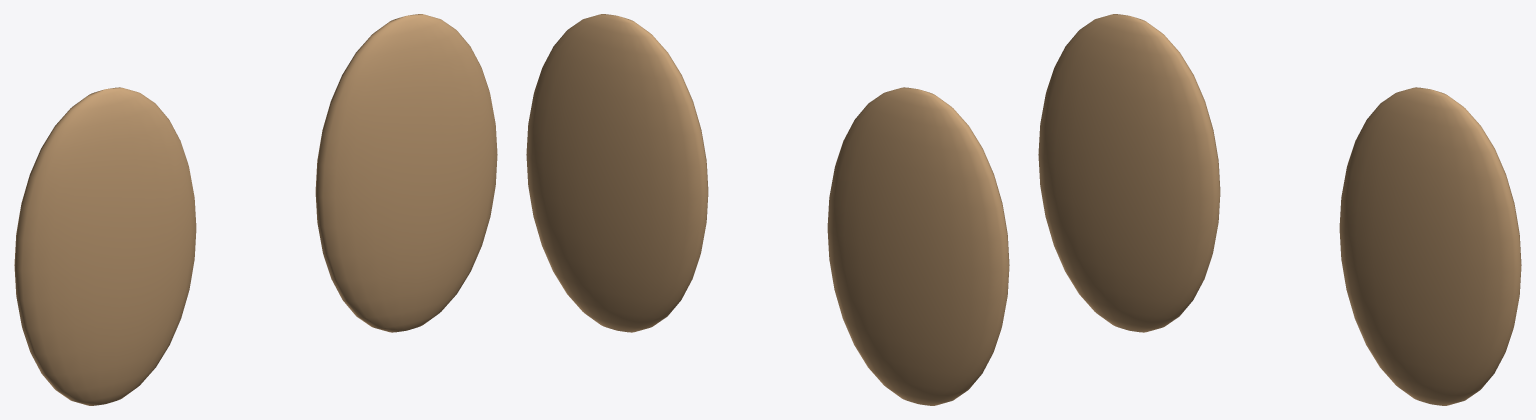
Rendered from conch_rabbit_tracks_Tracks.glb.
3 views of the same model, side by side, from view 1: azimuth 30°, elevation 25°; view 2: azimuth 150°, elevation 25°; view 3: azimuth 330°, elevation 25° (orthographic).
Size of the model in its own units: 9.6 by 6 by 1.
